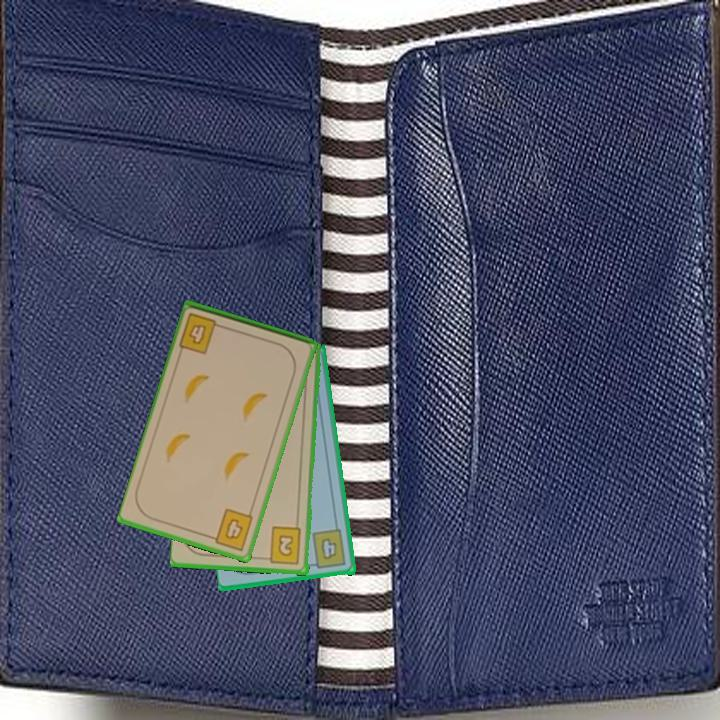2b: (260, 524, 304, 567)
4b: (176, 309, 228, 357), (206, 505, 256, 554), (306, 526, 349, 572)
